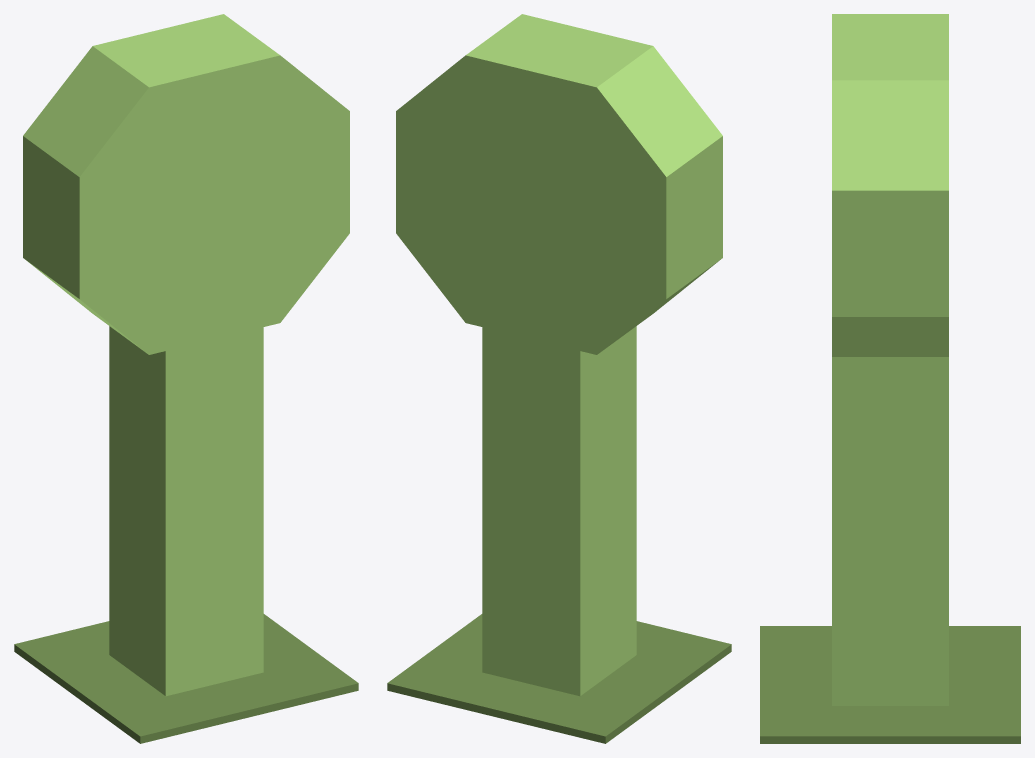
File: Dummy_TREE.FBX
3 views of the same model, side by side, from view 1: azimuth 30°, elevation 25°; view 2: azimuth 150°, elevation 25°; view 3: azimuth 270°, elevation 25° (orthographic). The views are drawn at different scales.
Visible parts, largest first — view 1: Dummy_TREE; view 2: Dummy_TREE; view 3: Dummy_TREE.
Boxes of the visible parts, left/top/right/bottom form: Dummy_TREE: left=14, top=14, right=358, bottom=743; Dummy_TREE: left=387, top=14, right=731, bottom=743; Dummy_TREE: left=760, top=14, right=1020, bottom=743.
Bounding box in the file's own units: 74.3 × 163 × 60.
